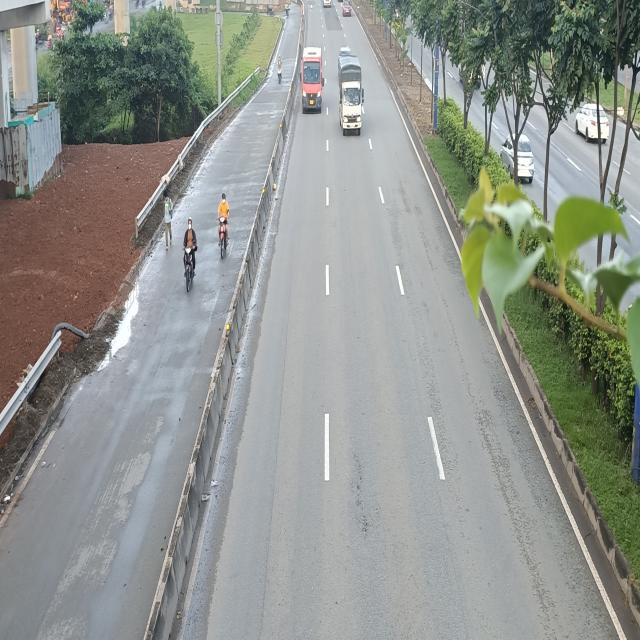truck: (339, 56, 365, 138)
van: (298, 48, 325, 115)
